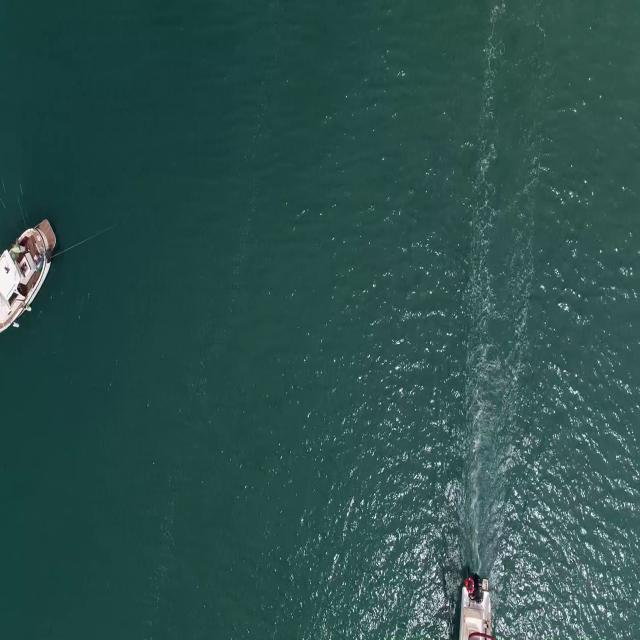boat: (0, 217, 56, 333), (458, 591, 498, 640)
life_buoy: (465, 576, 477, 596)
person: (11, 244, 28, 257), (33, 256, 45, 271)
